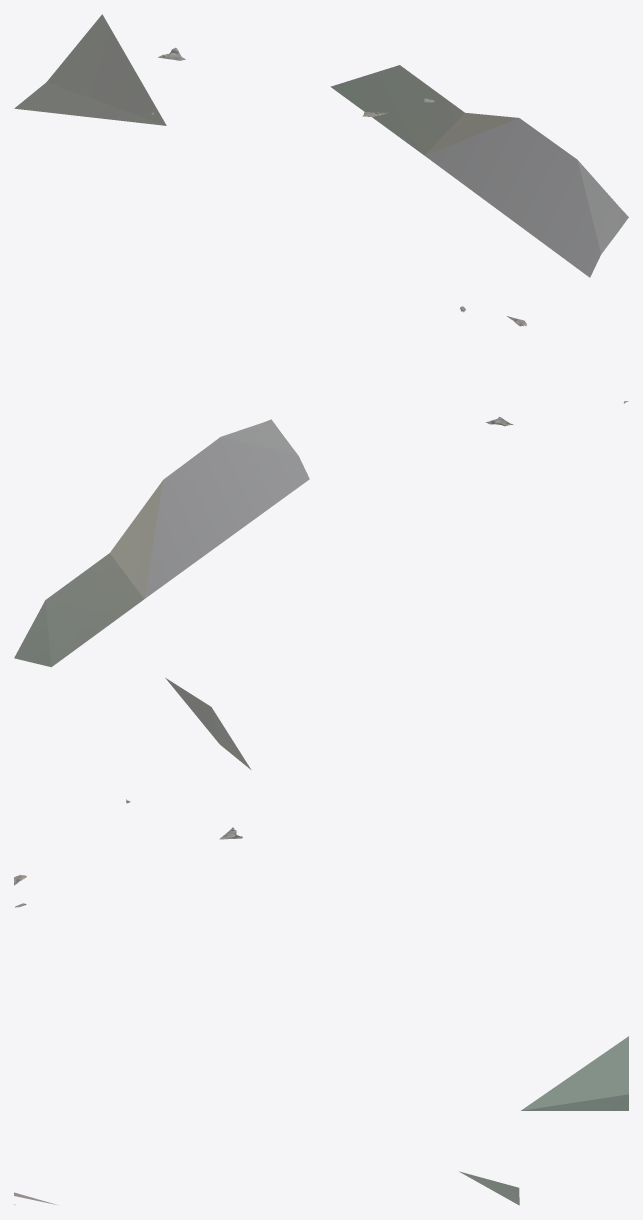
The picture shows the model from 3 angles, top to bottom: view 1: azimuth 30°, elevation 25°; view 2: azimuth 150°, elevation 25°; view 3: azimuth 270°, elevation 25°; orthographic projection. The views are drawn at different scales.
Bounding box in the file's own units: 3.01 × 1.48 × 3.93.
Materials: 1 (1 with a texture image).
